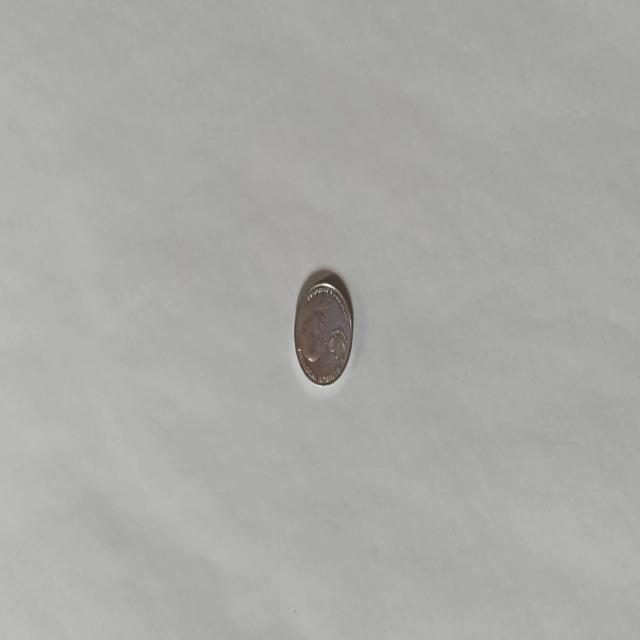lima ratus rupiah: (293, 276, 353, 386)
